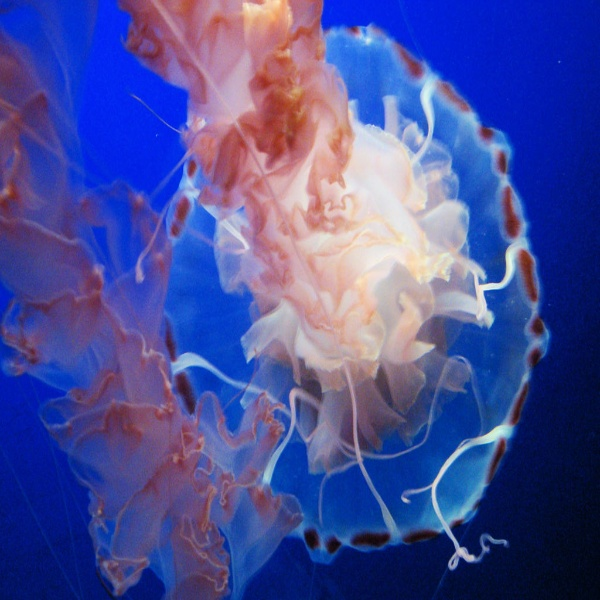Jellyfish: (13, 5, 548, 595)
